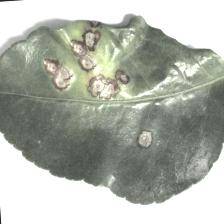canker: (32, 16, 164, 158)
